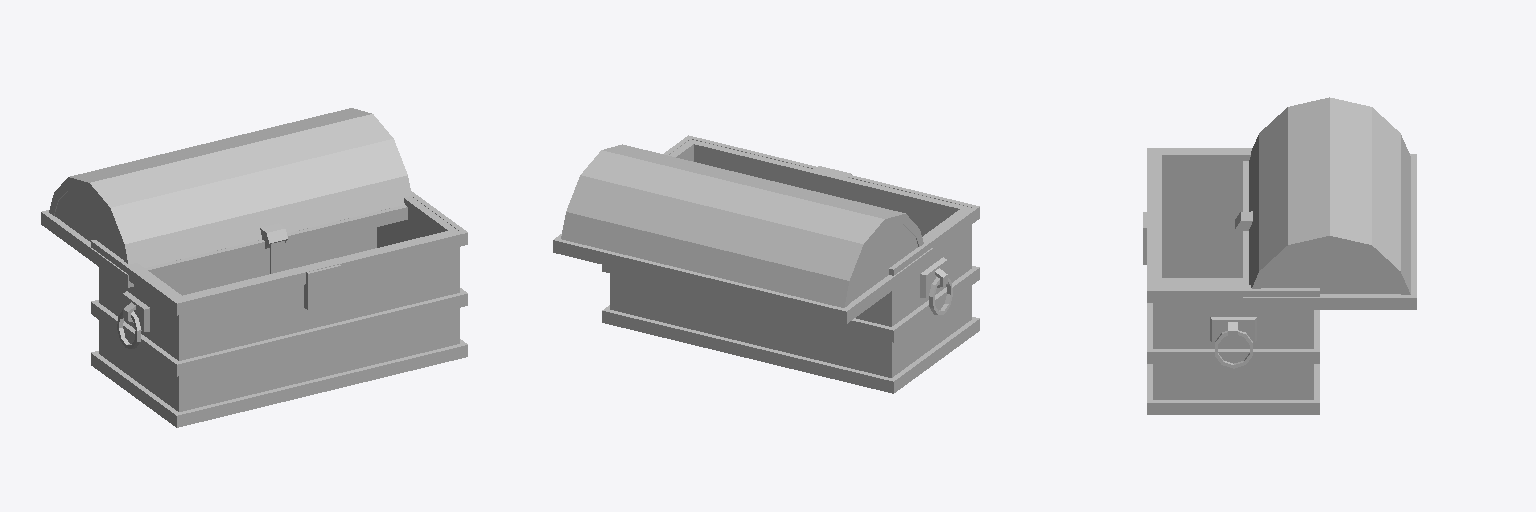
Rendered from chest.obj.
3 views of the same model, side by side, from view 1: azimuth 30°, elevation 25°; view 2: azimuth 150°, elevation 25°; view 3: azimuth 270°, elevation 25° (orthographic).
Visible parts, largest first — view 1: ChestBase_01, Top; view 2: Top, ChestBase_01; view 3: ChestBase_01, Top.
Part boxes in pixels (bbox=[...]): ChestBase_01: bbox=[91, 191, 467, 427]; Top: bbox=[41, 108, 411, 287]; Top: bbox=[553, 144, 933, 323]; ChestBase_01: bbox=[602, 135, 979, 393]; ChestBase_01: bbox=[1143, 148, 1319, 414]; Top: bbox=[1235, 97, 1416, 309].
Bounding box in the file's own units: 1.39 × 0.7742 × 1.07.